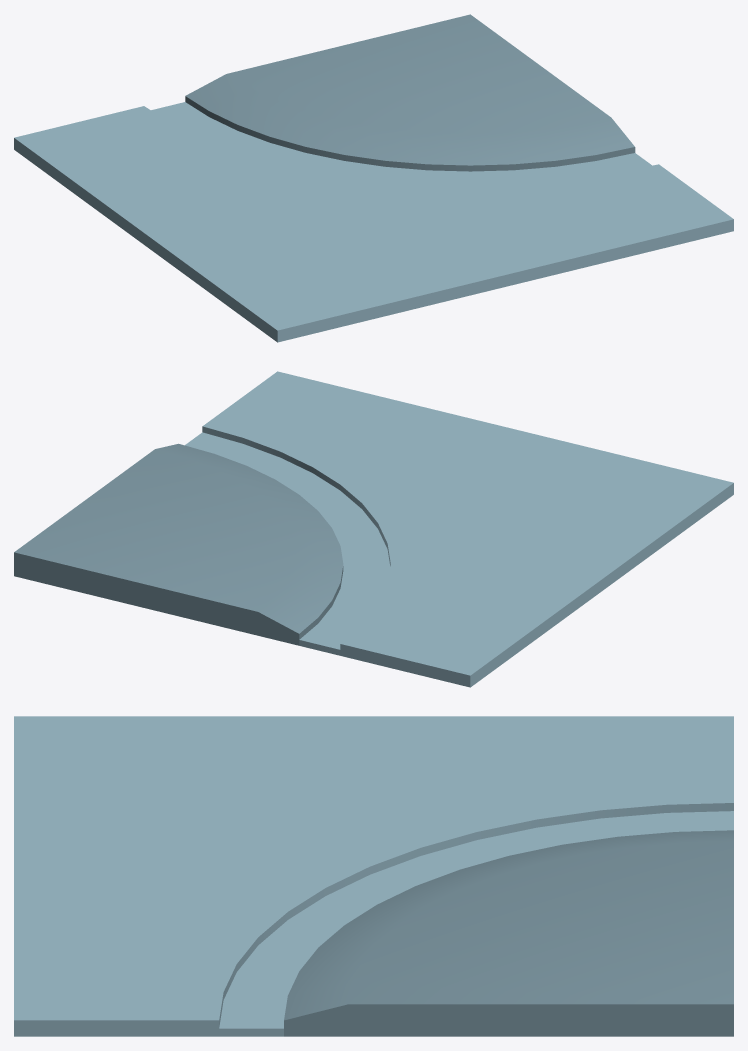
The model's file is roadCorner.obj.
3 views of the same model, one above another, from view 1: azimuth 30°, elevation 25°; view 2: azimuth 150°, elevation 25°; view 3: azimuth 270°, elevation 25° (orthographic). The views are drawn at different scales.
Visible parts, largest first — view 1: roadCorner; view 2: roadCorner; view 3: roadCorner.
Part boxes in pixels (<box>): roadCorner: <box>14,14,733,342</box>; roadCorner: <box>14,371,733,687</box>; roadCorner: <box>14,716,733,1036</box>.
Size of the model in its own units: 1 by 0.05 by 1.
